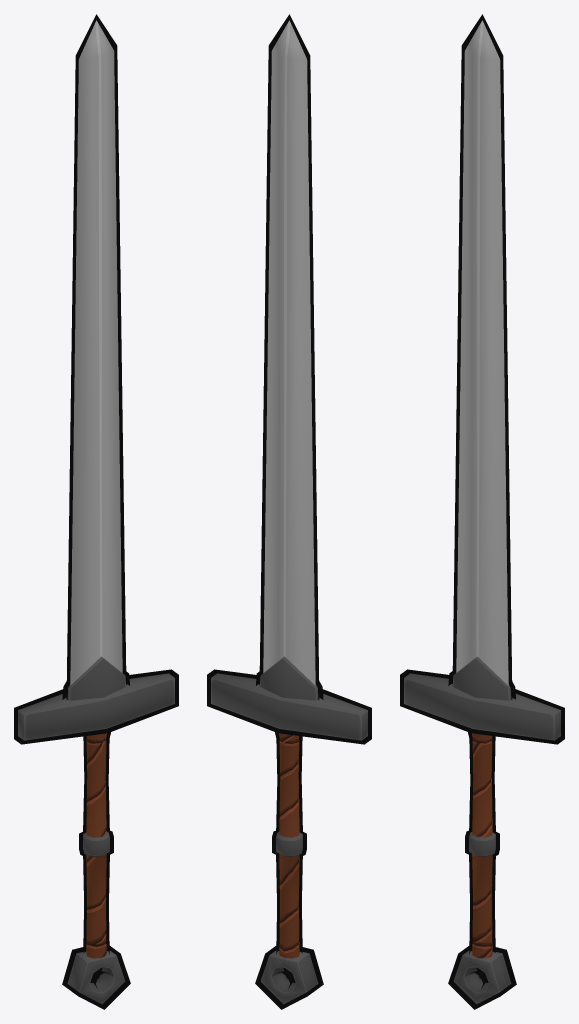
Rendered from sword1.glb.
3 renders of one model, left to right at view 1: azimuth 30°, elevation 25°; view 2: azimuth 150°, elevation 25°; view 3: azimuth 330°, elevation 25°, orthographic.
Parts seen in each view (by area): view 1: Cube.001, Cube.008; view 2: Cube.001, Cube.008; view 3: Cube.001, Cube.008.
Boxes of the visible parts, x1,y1,x2,y2 form: Cube.001: [18, 20, 174, 1004]; Cube.008: [14, 14, 178, 1009]; Cube.001: [211, 20, 367, 1004]; Cube.008: [207, 14, 371, 1009]; Cube.001: [404, 20, 560, 1004]; Cube.008: [400, 14, 564, 1009].
Size of the model in its own units: 1.58 by 9.47 by 0.3982.
2 materials, 1 textured.
